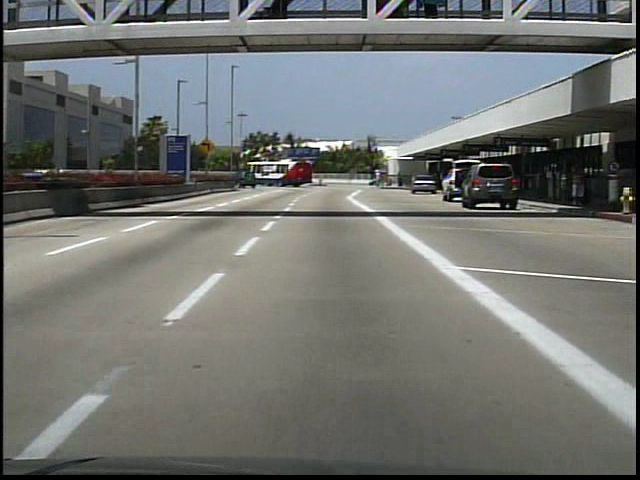person: (564, 163, 588, 211)
